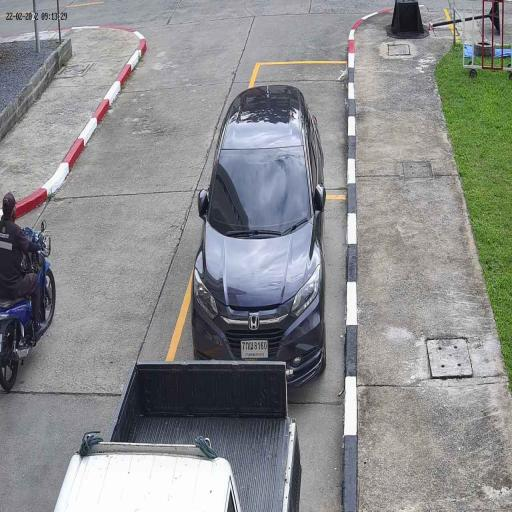car: (190, 82, 328, 385), (53, 358, 304, 512)
motorcycle: (0, 266, 56, 385)
